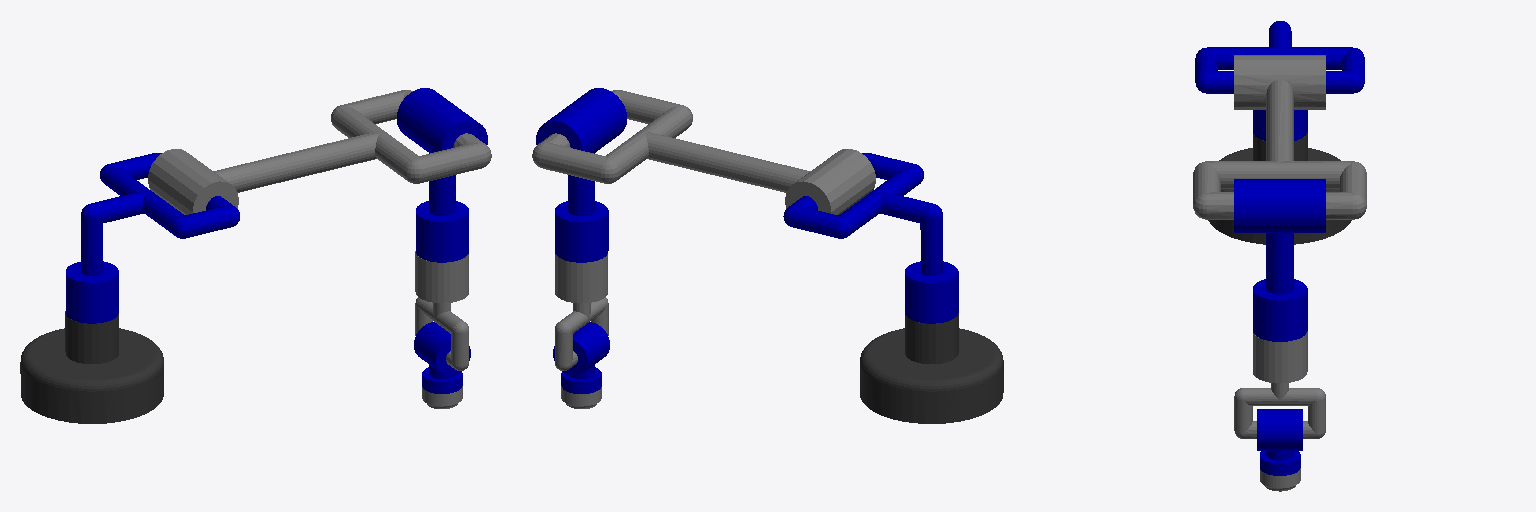
URDF robot description (Manipulator_URDF_3E):
<?xml version="1.0" encoding="utf-8"?>
<!-- This URDF was automatically created by SolidWorks to URDF Exporter! Originally created by [author] ([email redacted]) 
     Commit Version: 1.6.0-1-g15f4949  Build Version: 1.6.7594.29634
     For more information, please see http://wiki.ros.org/sw_urdf_exporter -->
<robot
  name="Manipulator_URDF_3E">
  <link
    name="base_link">
    <inertial>
      <origin
        xyz="-2.26122547505785E-19 2.13577132741215E-16 -0.944942946279879"
        rpy="0 0 0" />
      <mass
        value="142.024429907829" />
      <inertia
        ixx="6.73232808972828"
        ixy="2.4242065395991E-29"
        ixz="7.94721451563422E-19"
        iyy="6.73232808972828"
        iyz="-3.17221376578937E-16"
        izz="10.0533875673833" />
    </inertial>
    <visual>
      <origin
        xyz="0 0 0"
        rpy="0 0 0" />
      <geometry>
        <mesh
          filename="package://Manipulator_URDF_3E/meshes/base_link.STL" />
      </geometry>
      <material
        name="">
        <color
          rgba="0.250980392156863 0.250980392156863 0.250980392156863 1" />
      </material>
    </visual>
    <collision>
      <origin
        xyz="0 0 0"
        rpy="0 0 0" />
      <geometry>
        <mesh
          filename="package://Manipulator_URDF_3E/meshes/base_link.STL" />
      </geometry>
    </collision>
  </link>
  <link
    name="1_Link">
    <inertial>
      <origin
        xyz="0.21459 -3.9452E-07 -0.19796"
        rpy="0 0 0" />
      <mass
        value="46.123" />
      <inertia
        ixx="4.6851"
        ixy="-5.0179E-06"
        ixz="-1.9595"
        iyy="5.1663"
        iyz="1.2566E-05"
        izz="4.9099" />
    </inertial>
    <visual>
      <origin
        xyz="0 0 0"
        rpy="0 0 0" />
      <geometry>
        <mesh
          filename="package://Manipulator_URDF_3E/meshes/1_Link.STL" />
      </geometry>
      <material
        name="">
        <color
          rgba="0 0 0.75294 1" />
      </material>
    </visual>
    <collision>
      <origin
        xyz="0 0 0"
        rpy="0 0 0" />
      <geometry>
        <mesh
          filename="package://Manipulator_URDF_3E/meshes/1_Link.STL" />
      </geometry>
    </collision>
  </link>
  <joint
    name="jnt1"
    type="revolute">
    <origin
      xyz="0 0 0"
      rpy="0 0 0" />
    <parent
      link="base_link" />
    <child
      link="1_Link" />
    <axis
      xyz="0 0 1" />
    <limit
      lower="0"
      upper="0"
      effort="0"
      velocity="0" />
  </joint>
  <link
    name="2_Link">
    <inertial>
      <origin
        xyz="0.64907 1.7522E-06 1.5006E-06"
        rpy="0 0 0" />
      <mass
        value="85.949" />
      <inertia
        ixx="4.6578"
        ixy="-1.0229E-05"
        ixz="1.9137E-05"
        iyy="37.942"
        iyz="7.3268E-07"
        izz="33.825" />
    </inertial>
    <visual>
      <origin
        xyz="0 0 0"
        rpy="0 0 0" />
      <geometry>
        <mesh
          filename="package://Manipulator_URDF_3E/meshes/2_Link.STL" />
      </geometry>
      <material
        name="">
        <color
          rgba="0.50196 0.50196 0.50196 1" />
      </material>
    </visual>
    <collision>
      <origin
        xyz="0 0 0"
        rpy="0 0 0" />
      <geometry>
        <mesh
          filename="package://Manipulator_URDF_3E/meshes/2_Link.STL" />
      </geometry>
    </collision>
  </link>
  <joint
    name="jnt2"
    type="revolute">
    <origin
      xyz="0.65 0 0"
      rpy="1.5708 0 0" />
    <parent
      link="1_Link" />
    <child
      link="2_Link" />
    <axis
      xyz="0 0 1" />
    <limit
      lower="0"
      upper="0"
      effort="0"
      velocity="0" />
  </joint>
  <link
    name="3_Link">
    <inertial>
      <origin
        xyz="3.7828E-07 -0.22041 5.5193E-07"
        rpy="0 0 0" />
      <mass
        value="59.284" />
      <inertia
        ixx="5.8763"
        ixy="-1.1706E-08"
        ixz="6.5858E-07"
        iyy="1.1516"
        iyz="5.9152E-08"
        izz="5.3389" />
    </inertial>
    <visual>
      <origin
        xyz="0 0 0"
        rpy="0 0 0" />
      <geometry>
        <mesh
          filename="package://Manipulator_URDF_3E/meshes/3_Link.STL" />
      </geometry>
      <material
        name="">
        <color
          rgba="0 0 0.75294 1" />
      </material>
    </visual>
    <collision>
      <origin
        xyz="0 0 0"
        rpy="0 0 0" />
      <geometry>
        <mesh
          filename="package://Manipulator_URDF_3E/meshes/3_Link.STL" />
      </geometry>
    </collision>
  </link>
  <joint
    name="jnt3"
    type="revolute">
    <origin
      xyz="1.6 0 0"
      rpy="0 0 0" />
    <parent
      link="2_Link" />
    <child
      link="3_Link" />
    <axis
      xyz="0 0 1" />
    <limit
      lower="0"
      upper="0"
      effort="0"
      velocity="0" />
  </joint>
  <link
    name="4_Link">
    <inertial>
      <origin
        xyz="-1.3156E-07 -4.6836E-08 -0.37052"
        rpy="0 0 0" />
      <mass
        value="25.833" />
      <inertia
        ixx="1.0844"
        ixy="3.907E-09"
        ixz="-1.2975E-09"
        iyy="0.88402"
        iyz="3.7385E-16"
        izz="0.4095" />
    </inertial>
    <visual>
      <origin
        xyz="0 0 0"
        rpy="0 0 0" />
      <geometry>
        <mesh
          filename="package://Manipulator_URDF_3E/meshes/4_Link.STL" />
      </geometry>
      <material
        name="">
        <color
          rgba="0.50196 0.50196 0.50196 1" />
      </material>
    </visual>
    <collision>
      <origin
        xyz="0 0 0"
        rpy="0 0 0" />
      <geometry>
        <mesh
          filename="package://Manipulator_URDF_3E/meshes/4_Link.STL" />
      </geometry>
    </collision>
  </link>
  <joint
    name="jnt4"
    type="revolute">
    <origin
      xyz="0 -1.35 0"
      rpy="1.5708 0 0" />
    <parent
      link="3_Link" />
    <child
      link="4_Link" />
    <axis
      xyz="0 0 1" />
    <limit
      lower="0"
      upper="0"
      effort="0"
      velocity="0" />
  </joint>
  <link
    name="5_Link">
    <inertial>
      <origin
        xyz="9.198E-09 -0.048059 4.4105E-08"
        rpy="0 0 0" />
      <mass
        value="13.703" />
      <inertia
        ixx="0.1811"
        ixy="-8.2987E-09"
        ixz="5.4638E-08"
        iyy="0.1044"
        iyz="3.3775E-08"
        izz="0.161" />
    </inertial>
    <visual>
      <origin
        xyz="0 0 0"
        rpy="0 0 0" />
      <geometry>
        <mesh
          filename="package://Manipulator_URDF_3E/meshes/5_Link.STL" />
      </geometry>
      <material
        name="">
        <color
          rgba="0 0 0.75294 1" />
      </material>
    </visual>
    <collision>
      <origin
        xyz="0 0 0"
        rpy="0 0 0" />
      <geometry>
        <mesh
          filename="package://Manipulator_URDF_3E/meshes/5_Link.STL" />
      </geometry>
    </collision>
  </link>
  <joint
    name="jnt5"
    type="revolute">
    <origin
      xyz="0 0 0"
      rpy="-1.5708 0 0" />
    <parent
      link="4_Link" />
    <child
      link="5_Link" />
    <axis
      xyz="0 0 1" />
    <limit
      lower="0"
      upper="0"
      effort="0"
      velocity="0" />
  </joint>
  <link
    name="6_Link">
    <inertial>
      <origin
        xyz="8.8818E-16 8.9395E-16 0.27272"
        rpy="0 0 0" />
      <mass
        value="3.7339" />
      <inertia
        ixx="0.014228"
        ixy="-7.1965E-20"
        ixz="-2.0776E-19"
        iyy="0.014228"
        iyz="2.6161E-20"
        izz="0.022446" />
    </inertial>
    <visual>
      <origin
        xyz="0 0 0"
        rpy="0 0 0" />
      <geometry>
        <mesh
          filename="package://Manipulator_URDF_3E/meshes/6_Link.STL" />
      </geometry>
      <material
        name="">
        <color
          rgba="0.50196 0.50196 0.50196 1" />
      </material>
    </visual>
    <collision>
      <origin
        xyz="0 0 0"
        rpy="0 0 0" />
      <geometry>
        <mesh
          filename="package://Manipulator_URDF_3E/meshes/6_Link.STL" />
      </geometry>
    </collision>
  </link>
  <joint
    name="jnt6"
    type="revolute">
    <origin
      xyz="0 0 0"
      rpy="1.5708 0 0" />
    <parent
      link="5_Link" />
    <child
      link="6_Link" />
    <axis
      xyz="0 0 1" />
    <limit
      lower="0"
      upper="0"
      effort="0"
      velocity="0" />
  </joint>
</robot>

--- Render facts (derived) ---
The picture shows the robot from 3 angles, left to right: view 1: azimuth 30°, elevation 25°; view 2: azimuth 150°, elevation 25°; view 3: azimuth 270°, elevation 25°; orthographic projection.
Model Manipulator_URDF_3E with 7 links and 6 joints (6 revolute), rooted at base_link, posed every joint at zero.
Links seen in each view (by area): view 1: 2_Link, base_link, 1_Link, 3_Link, 4_Link, 5_Link, 6_Link; view 2: 2_Link, base_link, 1_Link, 3_Link, 4_Link, 5_Link, 6_Link; view 3: 2_Link, 3_Link, 1_Link, 4_Link, 5_Link, base_link, 6_Link.
Link boxes in pixels (x1,y1,x2,y2): 2_Link: (148, 90, 491, 214); base_link: (20, 311, 163, 423); 1_Link: (66, 153, 239, 323); 3_Link: (397, 88, 487, 262); 4_Link: (415, 251, 468, 370); 5_Link: (414, 322, 470, 393); 6_Link: (422, 386, 462, 408); 2_Link: (532, 90, 875, 214); base_link: (860, 313, 1003, 423); 1_Link: (783, 153, 958, 323); 3_Link: (536, 88, 626, 262); 4_Link: (555, 254, 608, 370); 5_Link: (553, 322, 609, 393); 6_Link: (561, 386, 601, 408); 2_Link: (1193, 55, 1366, 219); 3_Link: (1234, 179, 1325, 341); 1_Link: (1195, 21, 1364, 140); 4_Link: (1234, 331, 1325, 438); 5_Link: (1257, 409, 1302, 475); base_link: (1208, 132, 1351, 244); 6_Link: (1260, 468, 1300, 491).
Size in the robot's own frame: 2.8 by 0.9489 by 1.83 metres.
7 mesh visuals loaded from 7 distinct referenced files (7 binary STL).